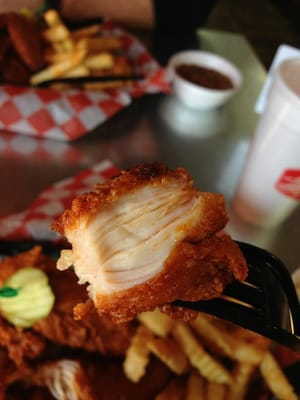pizza: (156, 40, 266, 202), (230, 46, 300, 247), (164, 49, 245, 142)
soup: (0, 157, 287, 399)
